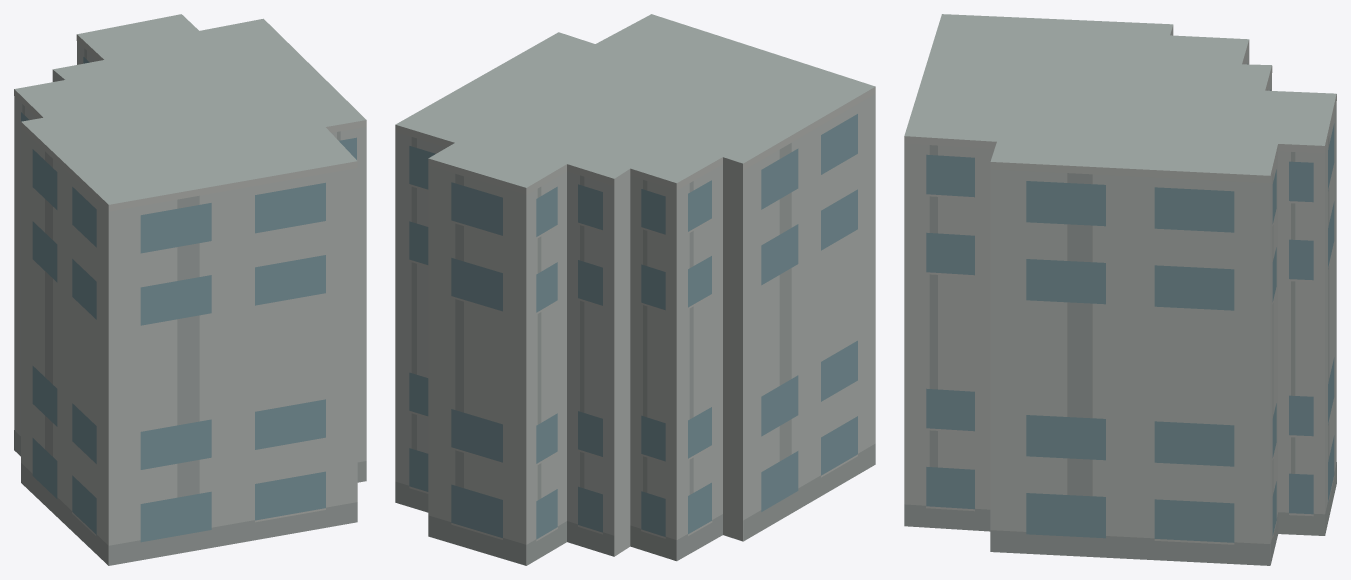
The model's file is survey-upis-32665417.glb.
3 renders of one model, left to right at view 1: azimuth 30°, elevation 25°; view 2: azimuth 150°, elevation 25°; view 3: azimuth 270°, elevation 25°, orthographic. The views are drawn at different scales.
Visible parts, largest first — view 1: survey-upis-32665417.tmp; view 2: survey-upis-32665417.tmp; view 3: survey-upis-32665417.tmp.
Boxes of the visible parts, x1,y1,x2,y2 form: survey-upis-32665417.tmp: (14,14,366,565); survey-upis-32665417.tmp: (395,14,875,565); survey-upis-32665417.tmp: (904,14,1336,565).
Size of the model in its own units: 11.44 by 12.85 by 12.92.
